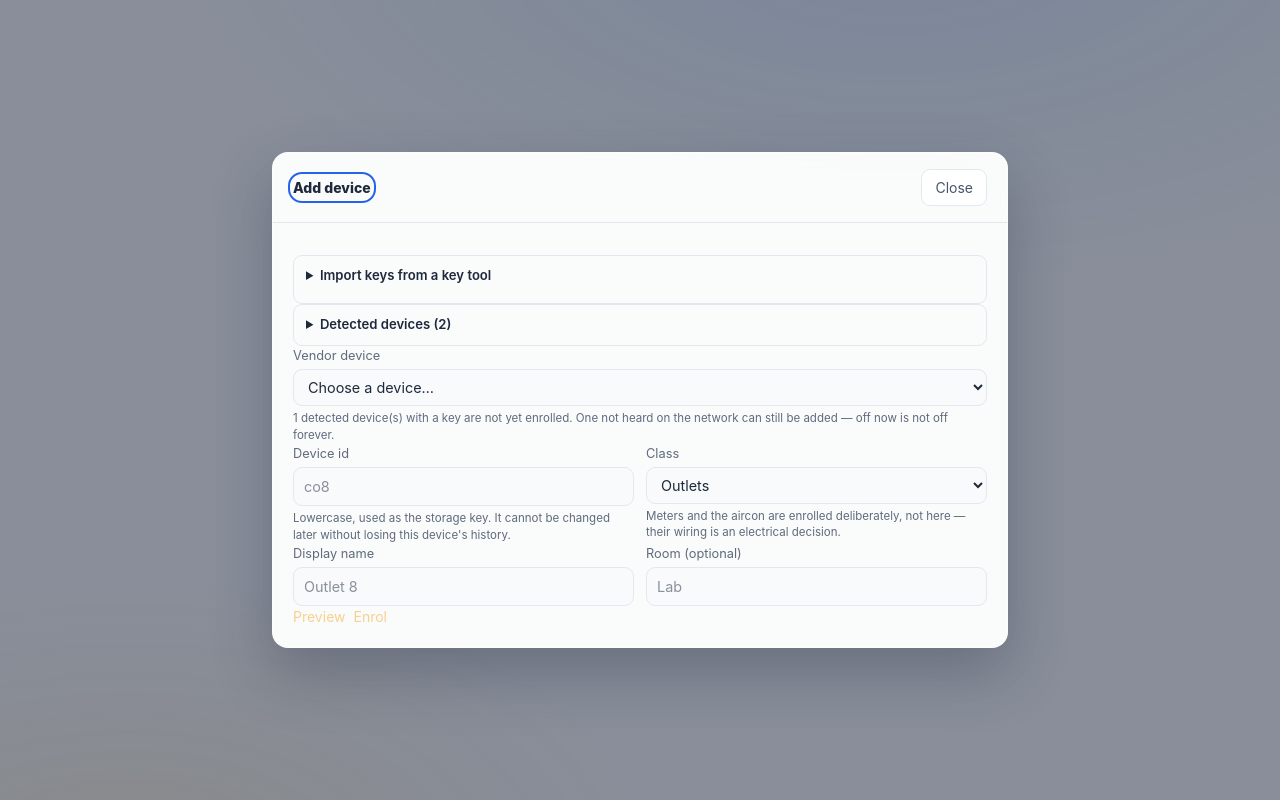
EnrollWizard › refuses a device id already in the registry
This screenshot has width=1280, height=800.
Type "co1" into the field with placeholder "co8".
click(464, 486); type("co1")  # box [293, 467, 634, 506]
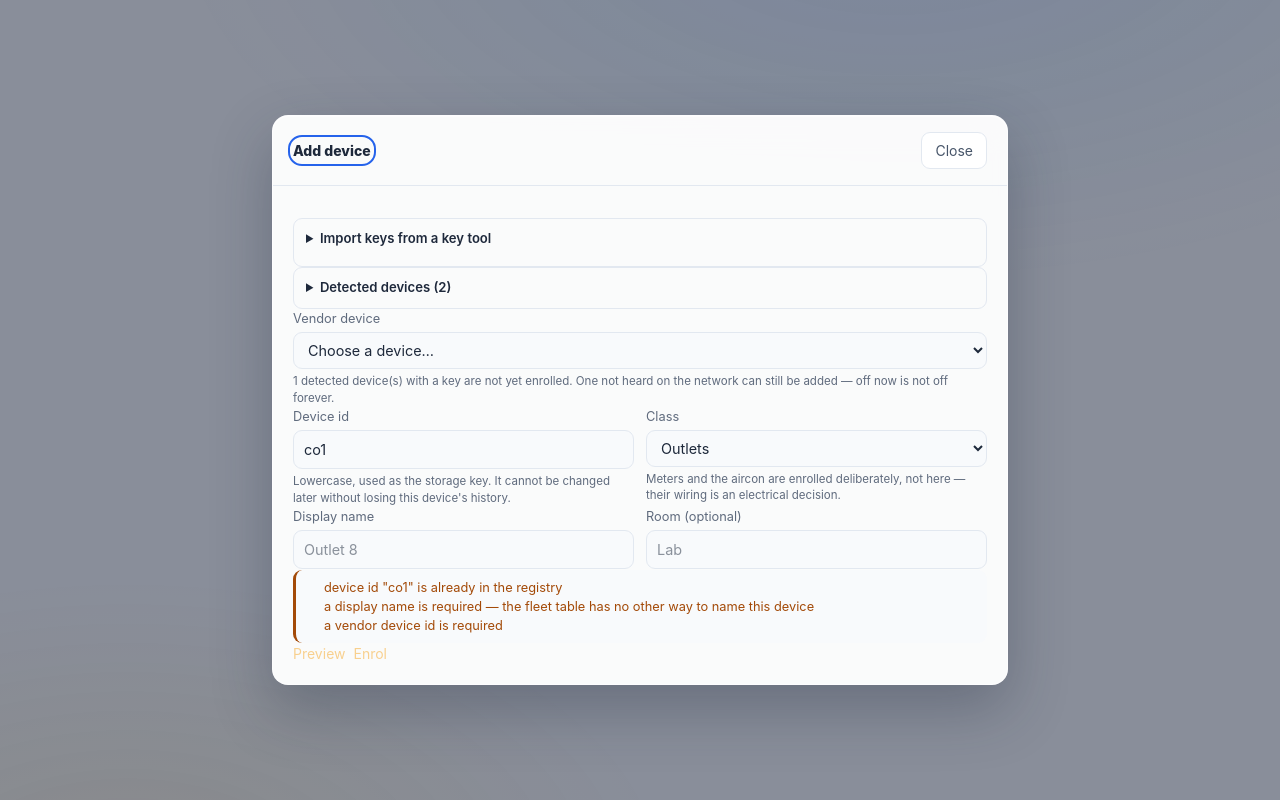
Check: the list item "device id \"co1\" is already in the registry" is shown, box [324, 580, 562, 595]
